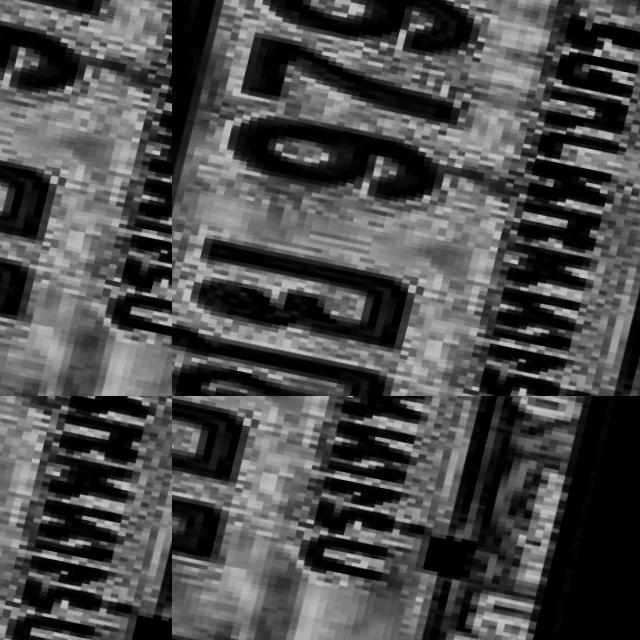license-plate: (172, 0, 640, 396), (172, 396, 640, 640), (0, 0, 172, 396), (0, 396, 172, 640)
